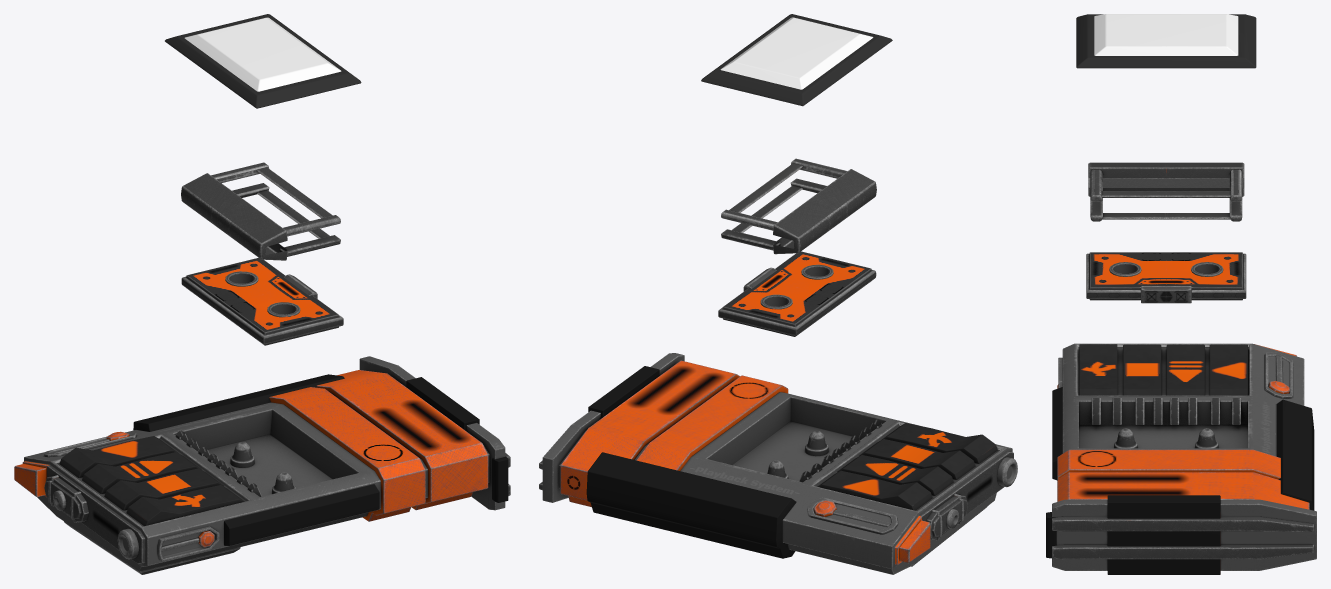
File: SM_CassetePlayer_Exploded.fbx
The picture shows the model from 3 angles, left to right: view 1: azimuth 30°, elevation 25°; view 2: azimuth 150°, elevation 25°; view 3: azimuth 270°, elevation 25°; orthographic projection. The views are drawn at different scales.
Parts seen in each view (by area): view 1: CassetePlayerBase, CassetePlayerBaseLatch, CassetePlayerBaseCassete, CassetePlayerBaseCasseteInternals, CassetePlayerSmallDetail; view 2: CassetePlayerBase, CassetePlayerBaseLatch, CassetePlayerBaseCassete, CassetePlayerBaseCasseteInternals, CassetePlayerSmallDetail; view 3: CassetePlayerBase, CassetePlayerBaseLatch, CassetePlayerBaseCassete, CassetePlayerBaseCasseteInternals, CassetePlayerSmallDetail.
Boxes of the visible parts, x1,y1,x2,y2 form: CassetePlayerBase: (14,356,510,574); CassetePlayerBaseLatch: (165,14,361,496); CassetePlayerBaseCassete: (181,257,343,345); CassetePlayerBaseCasseteInternals: (181,162,340,260); CassetePlayerSmallDetail: (43,431,219,561); CassetePlayerBase: (539,353,1017,574); CassetePlayerBaseLatch: (701,14,892,482); CassetePlayerBaseCassete: (718,251,876,336); CassetePlayerBaseCasseteInternals: (721,158,876,254); CassetePlayerSmallDetail: (807,497,897,534); CassetePlayerBase: (1046,343,1316,574); CassetePlayerBaseLatch: (1076,14,1256,448); CassetePlayerBaseCassete: (1086,252,1246,303); CassetePlayerBaseCasseteInternals: (1088,162,1244,221); CassetePlayerSmallDetail: (1057,352,1292,398).
Bounding box in the file's own units: 24.21 × 15.57 × 28.96.
